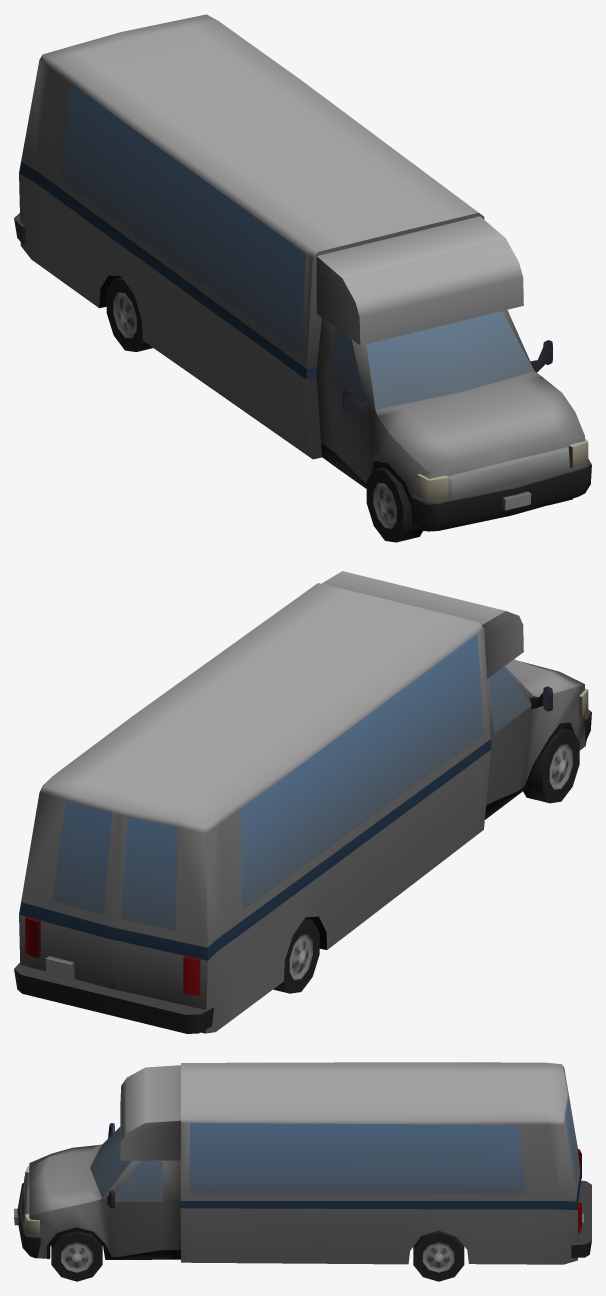
Rendered from vehicles-buses-trains-shuttle-bus_v1.fbx.
The picture shows the model from 3 angles, top to bottom: view 1: azimuth 30°, elevation 25°; view 2: azimuth 150°, elevation 25°; view 3: azimuth 270°, elevation 25°; orthographic projection. The views are drawn at different scales.
Visible parts, largest first — view 1: Shuttle Bus; view 2: Shuttle Bus; view 3: Shuttle Bus.
Part boxes in pixels (x1,y1,x2,y2): Shuttle Bus: [14, 14, 591, 542]; Shuttle Bus: [14, 571, 591, 1033]; Shuttle Bus: [14, 1062, 591, 1281].
Bounding box in the file's own units: 2.18 × 2.32 × 7.5.
